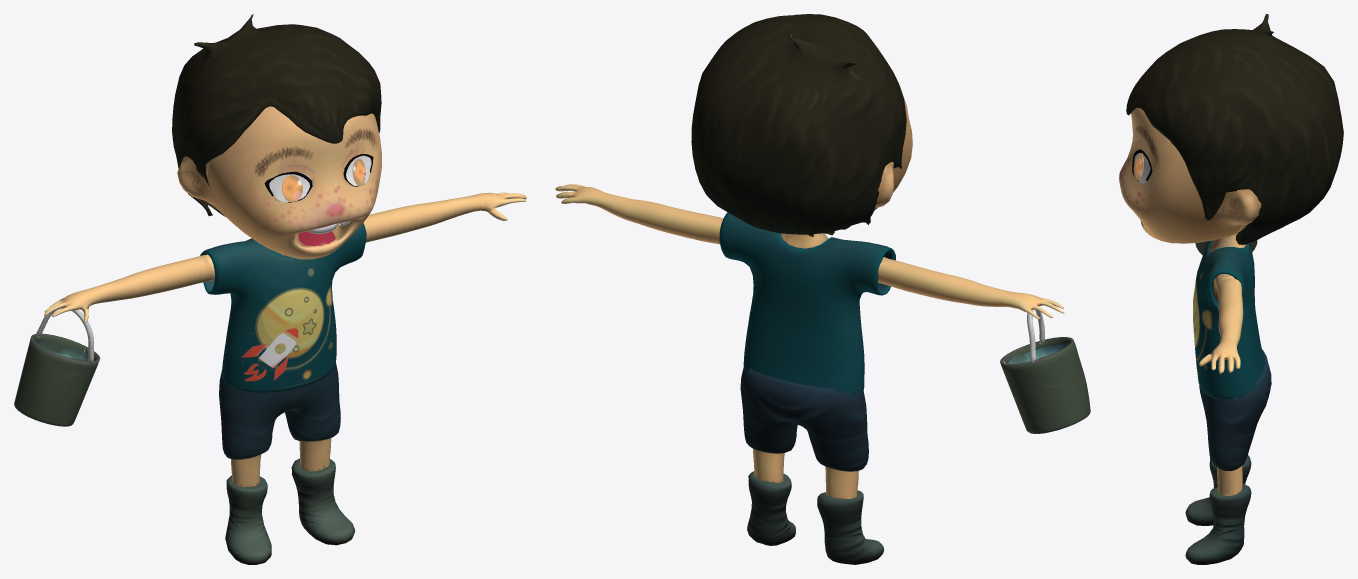
Rendered from fisher_boy_base.glb.
The picture shows the model from 3 angles, left to right: view 1: azimuth 30°, elevation 25°; view 2: azimuth 150°, elevation 25°; view 3: azimuth 270°, elevation 25°; orthographic projection. The views are drawn at different scales.
Parts seen in each view (by area): view 1: Boy_LP; view 2: Boy_LP; view 3: Boy_LP.
Part boxes in pixels (x1,y1,x2,y2): Boy_LP: (14, 14, 526, 564); Boy_LP: (555, 14, 1090, 564); Boy_LP: (1119, 14, 1343, 564).
Bounding box in the file's own units: 4.32 × 4.18 × 1.68.
Materials: 4 (4 with a texture image).
